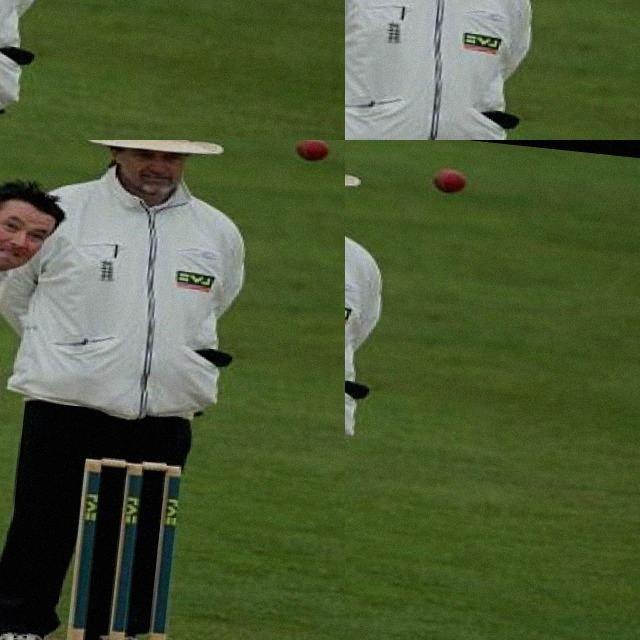No_Action: (345, 140, 503, 640)
No_Ball: (0, 140, 345, 640)
Six: (0, 0, 147, 140)
